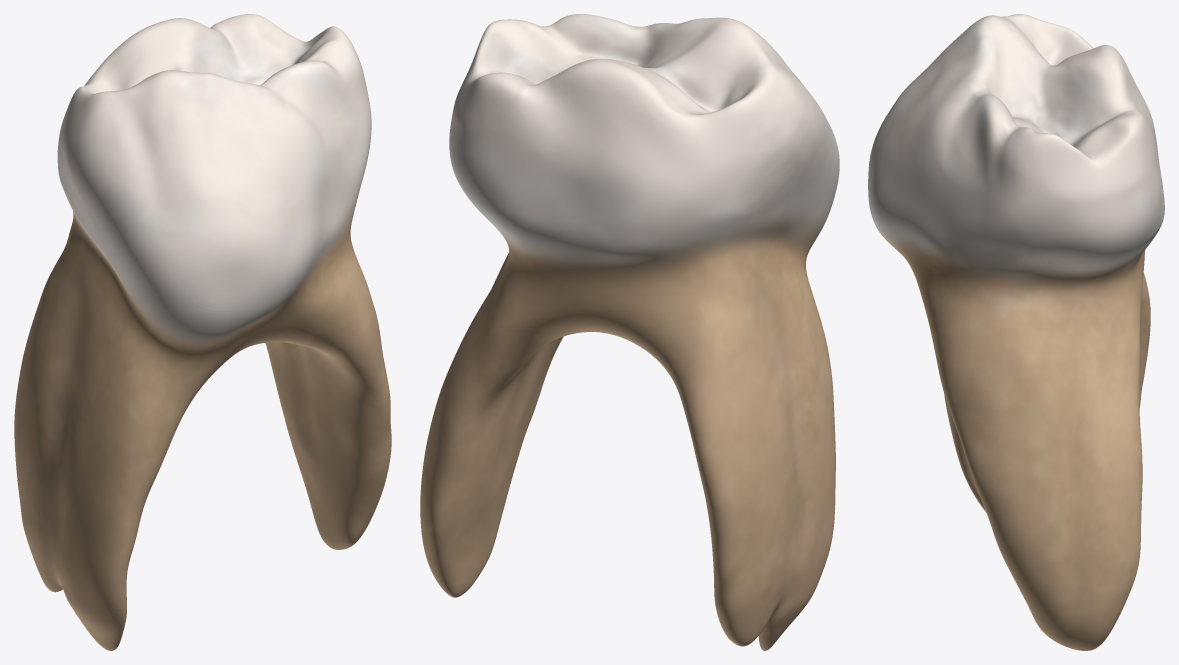
The model's file is primary_lower_left_first_molar_fdi_74.glb.
3 renders of one model, left to right at view 1: azimuth 30°, elevation 25°; view 2: azimuth 150°, elevation 25°; view 3: azimuth 270°, elevation 25°, orthographic. The views are drawn at different scales.
Parts seen in each view (by area): view 1: Object_5, Object_4, Object_7, Object_3, Object_6, Object_8; view 2: Object_5, Object_7, Object_4, Object_6, Object_3, Object_8; view 3: Object_3, Object_5, Object_4, Object_8, Object_7, Object_6.
Boxes of the visible parts, box(x1,y1,x2,y2) form: Object_5: box(22, 18, 371, 646); Object_4: box(60, 14, 389, 549); Object_7: box(14, 149, 391, 650); Object_3: box(62, 34, 390, 650); Object_6: box(14, 276, 391, 637); Object_8: box(57, 65, 371, 327); Object_5: box(449, 14, 838, 650); Object_7: box(420, 116, 838, 647); Object_4: box(449, 14, 839, 592); Object_6: box(423, 245, 835, 645); Object_3: box(424, 17, 816, 648); Object_8: box(449, 54, 839, 301); Object_3: box(901, 15, 1154, 536); Object_5: box(868, 15, 1161, 267); Object_4: box(868, 14, 1154, 649); Object_8: box(868, 53, 1164, 313); Object_7: box(911, 250, 1144, 650); Object_6: box(929, 273, 1150, 650).
Bounding box in the file's own units: 4.65 × 7.63 × 3.75.
Materials: 1 (1 with a texture image).
